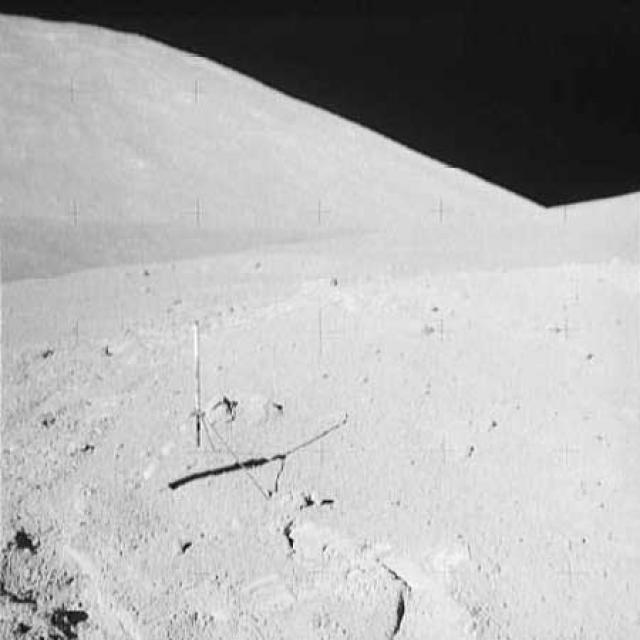artifact: (149, 311, 282, 500)
rock: (210, 379, 282, 429), (294, 485, 336, 510)
